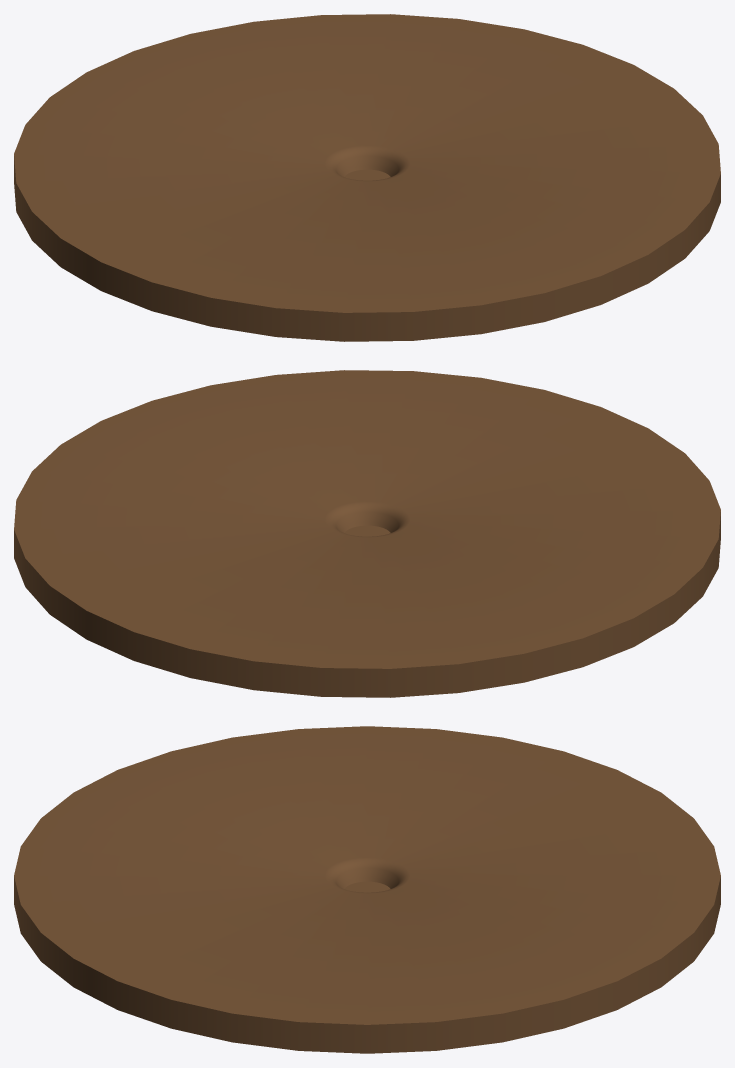
Rendered from groundd.fbx.
3 renders of one model, top to bottom at view 1: azimuth 30°, elevation 25°; view 2: azimuth 150°, elevation 25°; view 3: azimuth 270°, elevation 25°, orthographic.
Visible parts, largest first — view 1: Plane; view 2: Plane; view 3: Plane.
Part boxes in pixels (x1,y1,x2,y2): Plane: (14, 14, 720, 341); Plane: (14, 370, 720, 697); Plane: (14, 726, 720, 1053).
Bounding box in the file's own units: 29.91 × 1.35 × 29.91.
